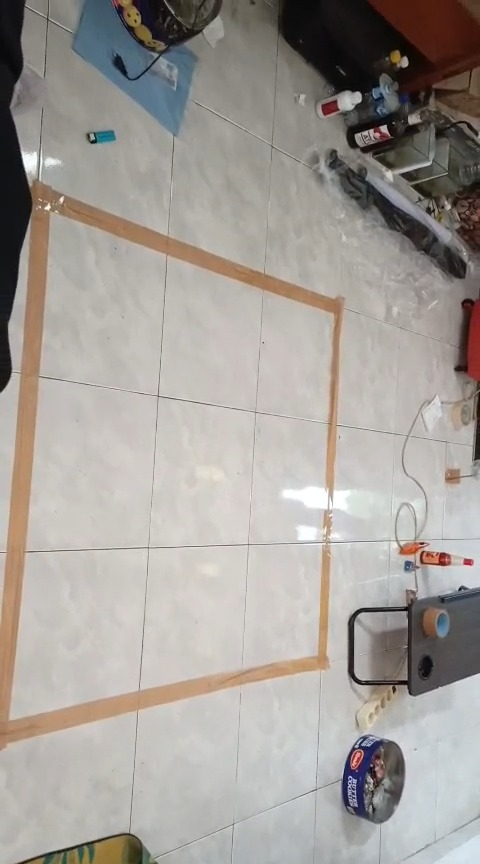floor marking: (0, 181, 342, 748)
